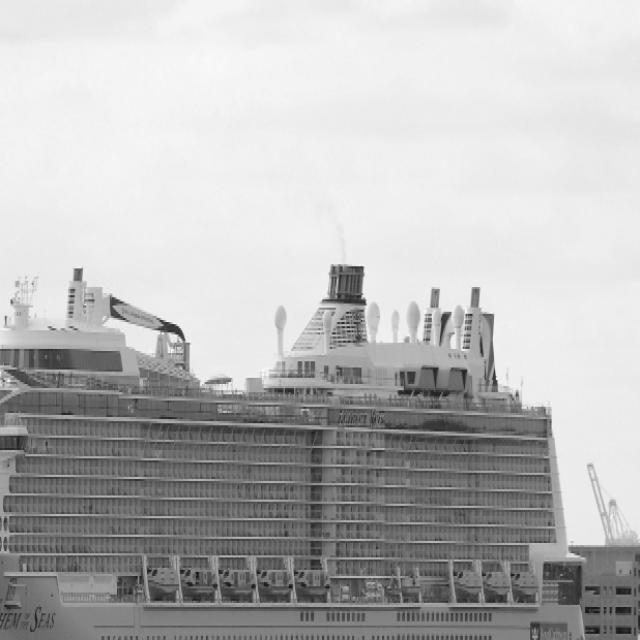cruises: (1, 248, 596, 640)
